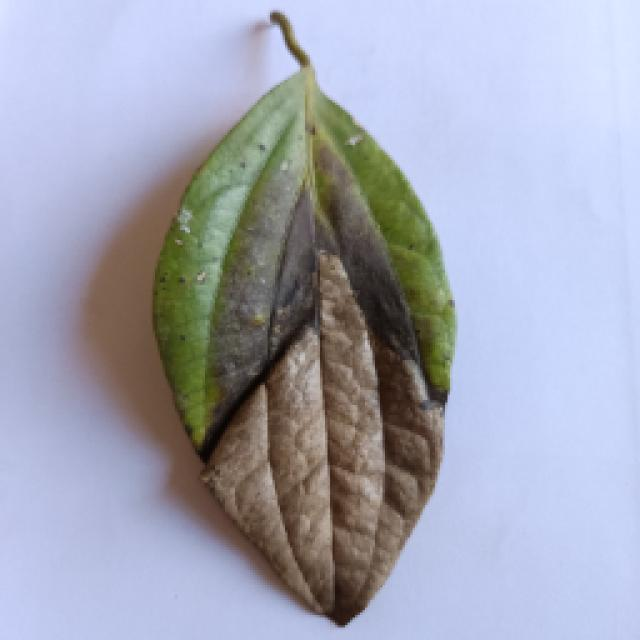footrot: (145, 18, 453, 628)
